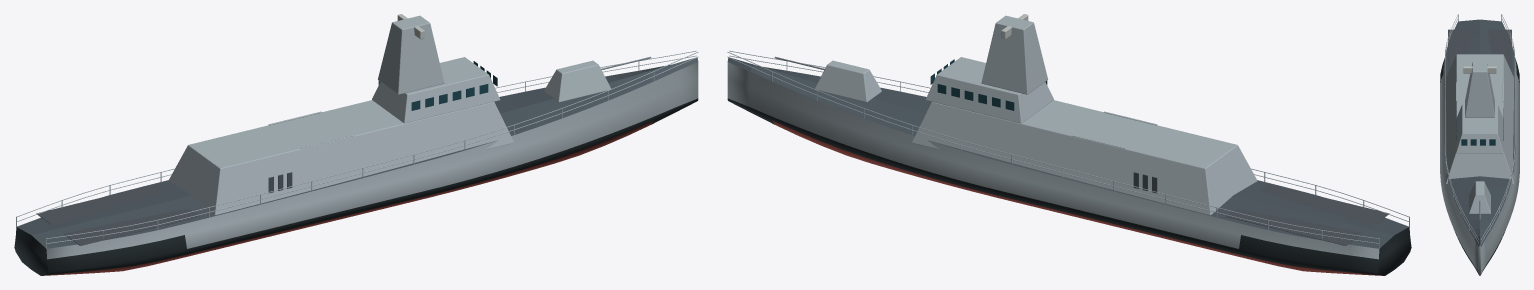
File: swe_fsg_visby.glb
3 views of the same model, side by side, from view 1: azimuth 30°, elevation 25°; view 2: azimuth 150°, elevation 25°; view 3: azimuth 270°, elevation 25° (orthographic). The views are drawn at different scales.
Visible parts, largest first — view 1: swe_fsg_visby; view 2: swe_fsg_visby; view 3: swe_fsg_visby.
Part boxes in pixels (left/top/right/bottom): swe_fsg_visby: left=14, top=14, right=698, bottom=275; swe_fsg_visby: left=727, top=14, right=1411, bottom=275; swe_fsg_visby: left=1440, top=14, right=1519, bottom=275.
Bounding box in the file's own units: 10 × 2.39 × 1.43.
